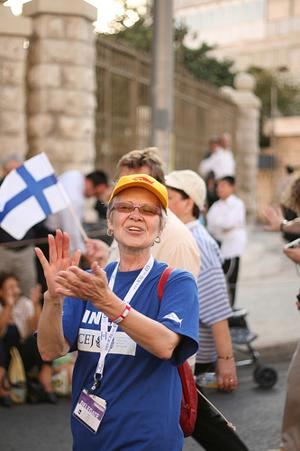person: (34, 172, 201, 450)
